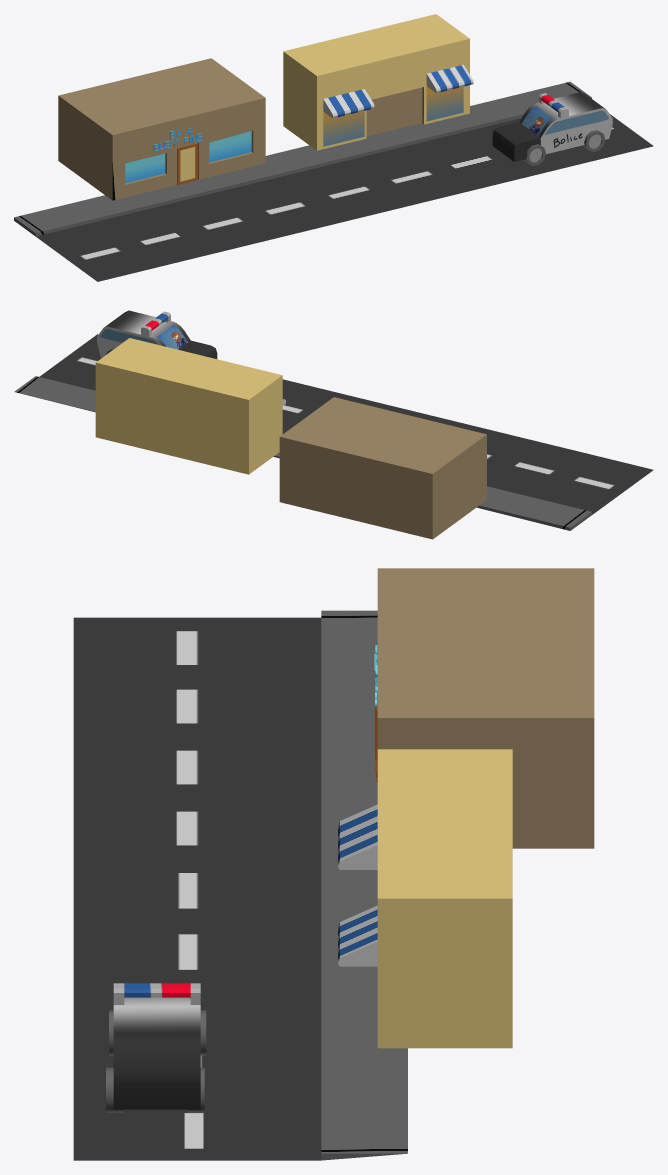
The model's file is Bar_Exterior.FBX.
The picture shows the model from 3 angles, top to bottom: view 1: azimuth 30°, elevation 25°; view 2: azimuth 150°, elevation 25°; view 3: azimuth 270°, elevation 25°; orthographic projection. The views are drawn at different scales.
Visible parts, largest first — view 1: Road, Bar, Building, Car, Door; view 2: Bar, Building, Road, Car; view 3: Road, Bar, Building, Car.
Part boxes in pixels (<box>): Road: <box>14,81,653,281</box>; Bar: <box>58,58,265,200</box>; Building: <box>283,14,473,150</box>; Car: <box>492,92,612,165</box>; Door: <box>177,143,197,184</box>; Bar: <box>279,397,486,539</box>; Building: <box>95,338,286,474</box>; Road: <box>14,334,653,530</box>; Car: <box>97,310,217,358</box>; Road: <box>73,610,407,1160</box>; Bar: <box>374,568,594,848</box>; Building: <box>338,749,512,1048</box>; Car: <box>106,983,206,1112</box>.
Bounding box in the file's own units: 389 × 52.31 × 158.
